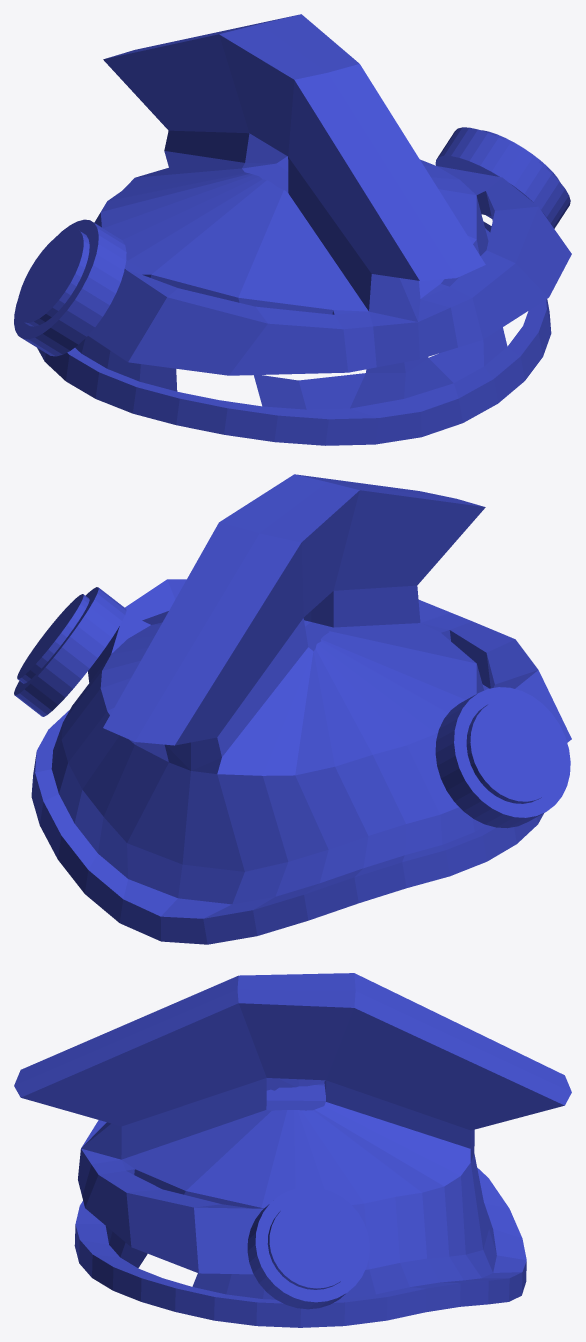
File: helmet.fbx
3 views of the same model, one above another, from view 1: azimuth 30°, elevation 25°; view 2: azimuth 150°, elevation 25°; view 3: azimuth 270°, elevation 25° (orthographic). The views are drawn at different scales.
Visible parts, largest first — view 1: helmet; view 2: helmet; view 3: helmet.
Boxes of the visible parts, left/top/right/bottom form: helmet: left=14, top=14, right=571, bottom=445; helmet: left=14, top=474, right=571, bottom=944; helmet: left=14, top=973, right=571, bottom=1327.
Size of the model in its own units: 2.37 by 1.43 by 2.47.
